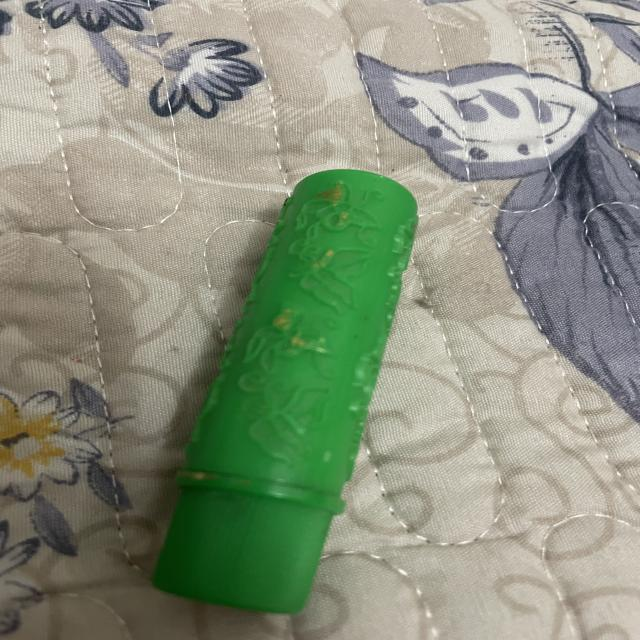lip stick: (119, 158, 449, 627)
